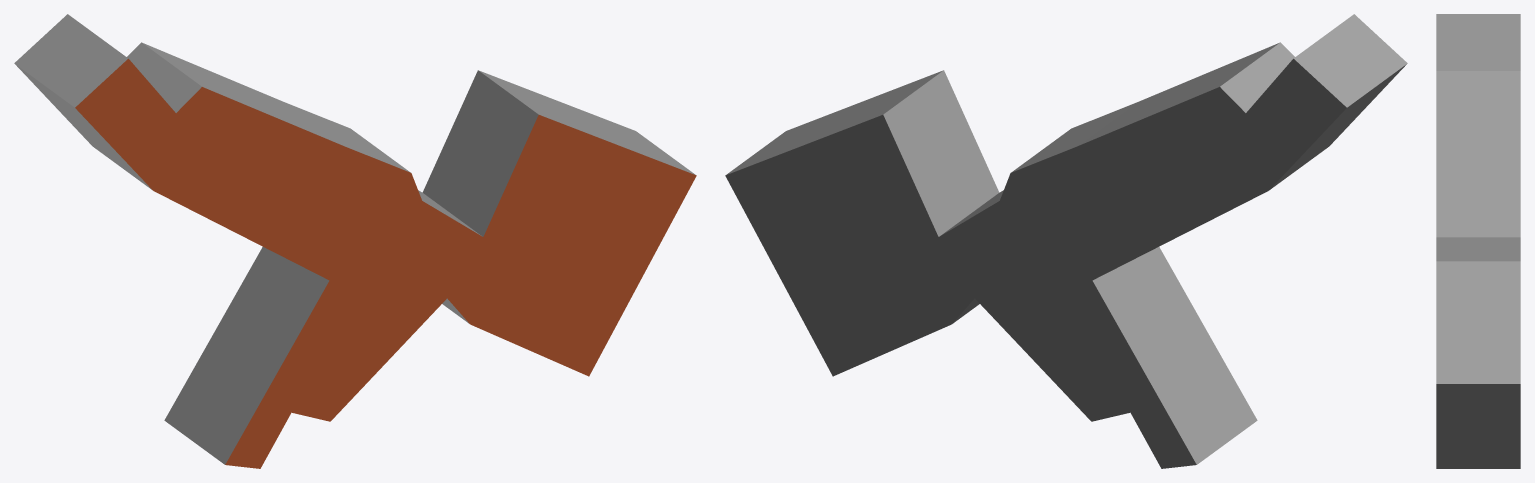
Rendered from construction_1138_assumed_A_Casa_h6m.obj.
3 views of the same model, side by side, from view 1: azimuth 30°, elevation 25°; view 2: azimuth 150°, elevation 25°; view 3: azimuth 270°, elevation 25° (orthographic). The views are drawn at different scales.
Visible parts, largest first — view 1: construction_1138_assumed_A_Casa; view 2: construction_1138_assumed_A_Casa; view 3: construction_1138_assumed_A_Casa.
Boxes of the visible parts, x1,y1,x2,y2 form: construction_1138_assumed_A_Casa: [14, 14, 696, 468]; construction_1138_assumed_A_Casa: [725, 14, 1407, 468]; construction_1138_assumed_A_Casa: [1436, 14, 1520, 468].
Bounding box in the file's own units: 35.44 × 24.11 × 6.
